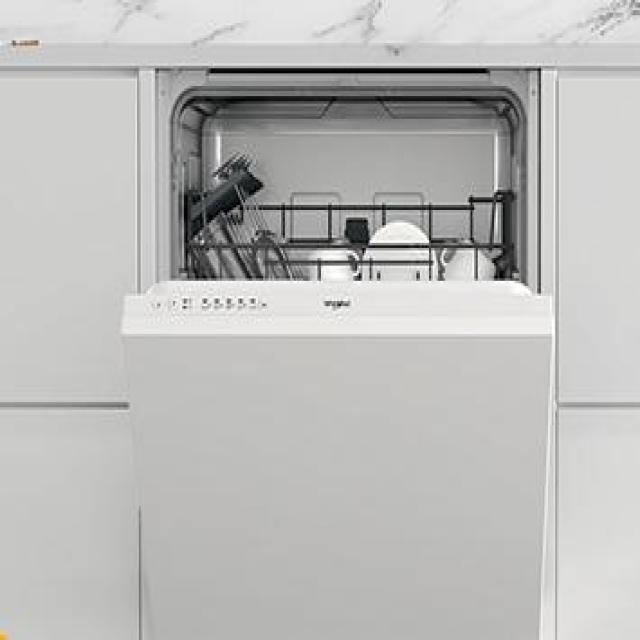dishwasher: (121, 66, 555, 637)
